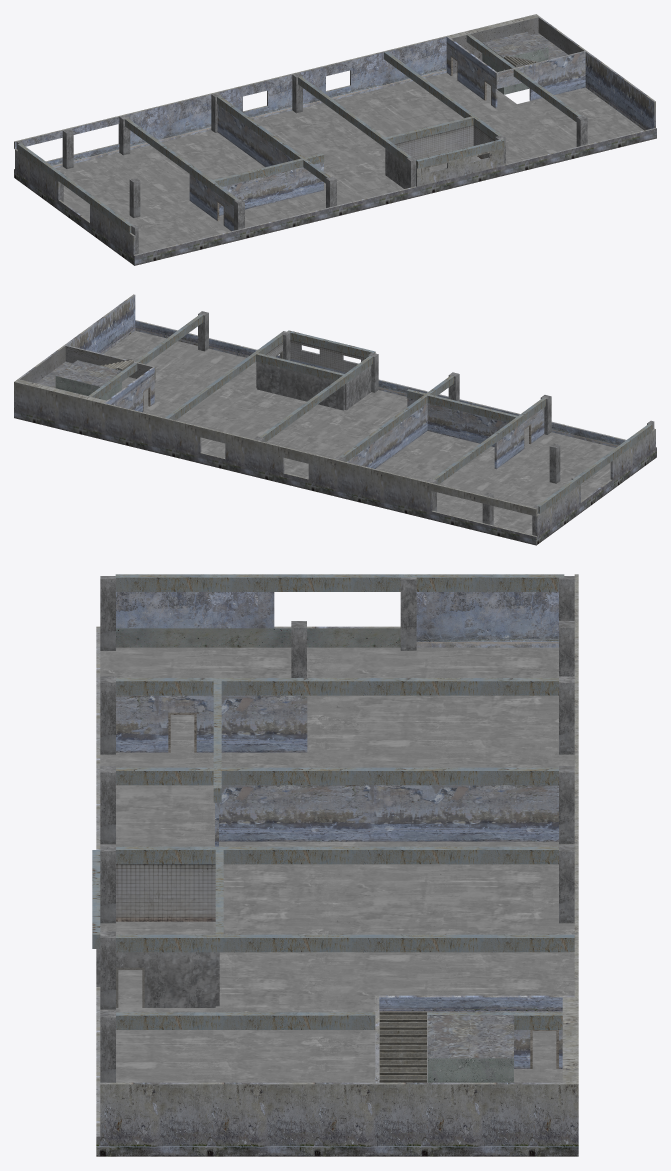
The model's file is Broken_House_02_Part.FBX.
3 views of the same model, one above another, from view 1: azimuth 30°, elevation 25°; view 2: azimuth 150°, elevation 25°; view 3: azimuth 270°, elevation 25° (orthographic). The views are drawn at different scales.
Visible parts, largest first — view 1: Broken_House_02Floor_floor, Broken_House_02Floor_a, Broken_House_02Floor_rig, Broken_House_02Floor_wall, Broken_House_02Floor_walls, Broken_House_02Floor_toilet, Broken_House_02Floor_columns; view 2: Broken_House_02Floor_floor, Broken_House_02Floor_a, Broken_House_02Floor_rig, Broken_House_02Floor_wall, Broken_House_02Floor_toilet, Broken_House_02Floor_walls, Broken_House_02Floor_columns; view 3: Broken_House_02Floor_floor, Broken_House_02Floor_a, Broken_House_02Floor_rig, Broken_House_02Floor_wall, Broken_House_02Floor_columns, Broken_House_02Floor_toilet, Broken_House_02Floor_walls, Broken_House_02Floor_stair.
Part boxes in pixels (<box>): Broken_House_02Floor_floor: <box>55,72,643,253</box>; Broken_House_02Floor_a: <box>14,14,656,265</box>; Broken_House_02Floor_rig: <box>17,34,581,233</box>; Broken_House_02Floor_wall: <box>189,36,497,231</box>; Broken_House_02Floor_walls: <box>482,31,585,100</box>; Broken_House_02Floor_toilet: <box>385,125,503,188</box>; Broken_House_02Floor_columns: <box>16,73,587,254</box>; Broken_House_02Floor_floor: <box>104,330,615,534</box>; Broken_House_02Floor_a: <box>14,294,656,545</box>; Broken_House_02Floor_rig: <box>88,314,652,513</box>; Broken_House_02Floor_wall: <box>104,367,544,469</box>; Broken_House_02Floor_toilet: <box>256,340,371,410</box>; Broken_House_02Floor_walls: <box>36,345,155,400</box>; Broken_House_02Floor_columns: <box>198,311,654,535</box>; Broken_House_02Floor_floor: <box>100,647,574,1082</box>; Broken_House_02Floor_a: <box>96,574,578,1156</box>; Broken_House_02Floor_rig: <box>92,574,574,1029</box>; Broken_House_02Floor_wall: <box>116,695,574,1068</box>; Broken_House_02Floor_columns: <box>100,576,574,1082</box>; Broken_House_02Floor_toilet: <box>96,864,219,1007</box>; Broken_House_02Floor_walls: <box>375,995,513,1082</box>; Broken_House_02Floor_stair: <box>379,1011,427,1082</box>.
Bounding box in the file's own units: 2747 × 195 × 1107.
